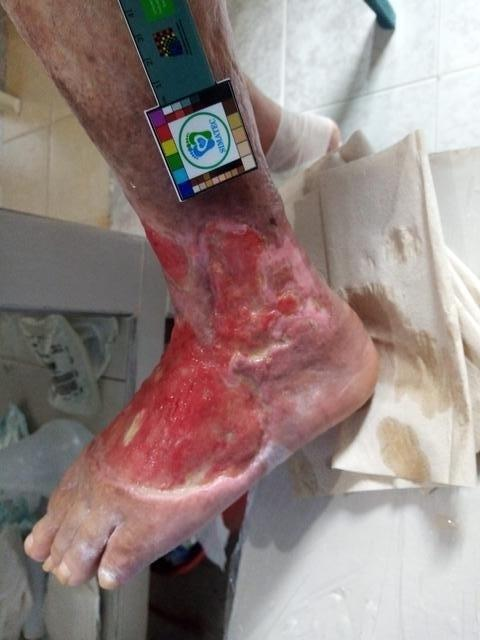wound: (91, 230, 304, 496), (143, 222, 190, 290)
